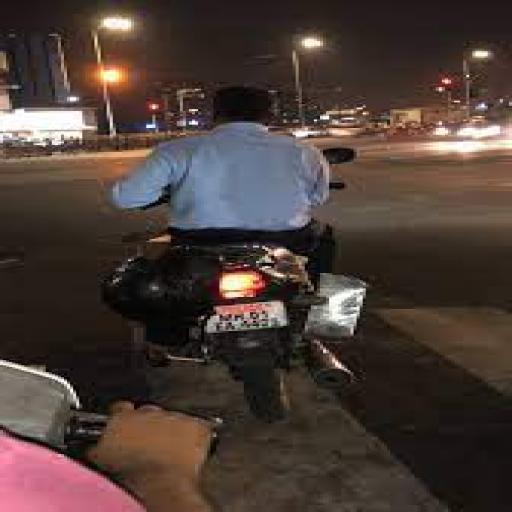helmet: (97, 145, 372, 423)
